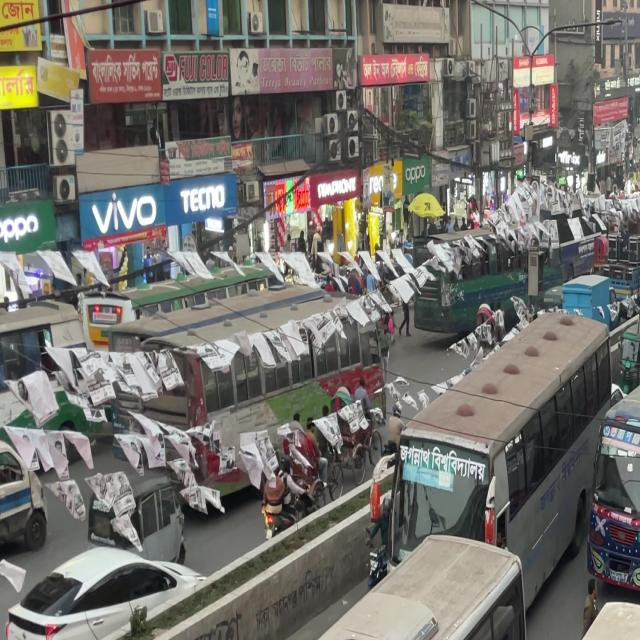bus: (334, 271, 606, 561), (120, 525, 529, 640), (575, 322, 640, 572)
van: (537, 577, 640, 640)
